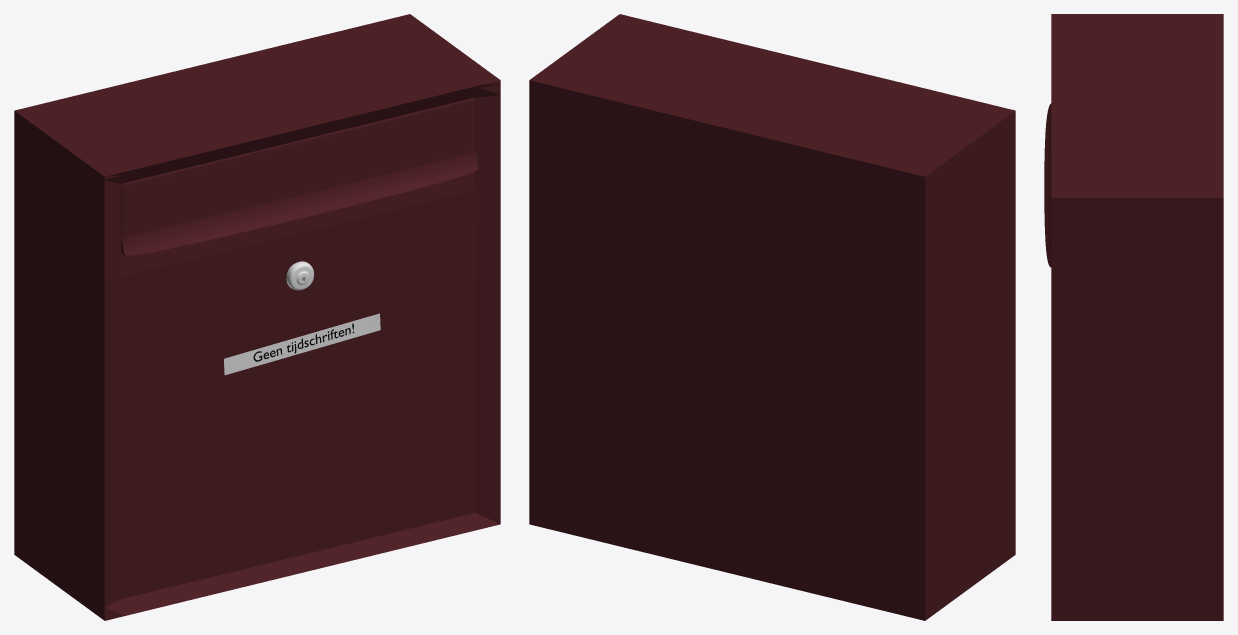
Rendered from brievenbus.fbx.
The picture shows the model from 3 angles, left to right: view 1: azimuth 30°, elevation 25°; view 2: azimuth 150°, elevation 25°; view 3: azimuth 270°, elevation 25°; orthographic projection. The views are drawn at different scales.
Parts seen in each view (by area): view 1: Cube, Cube.001, Cube.003, Cube.002; view 2: Cube; view 3: Cube, Cube.001.
Boxes of the visible parts, x1,y1,x2,y2 form: Cube: (14,14,500,620); Cube.001: (121,97,478,255); Cube.003: (224,313,380,375); Cube.002: (286,261,314,290); Cube: (529,14,1015,620); Cube: (1051,14,1223,620); Cube.001: (1044,103,1051,267).
Size of the model in its own units: 33.4 by 35.81 by 13.77.
